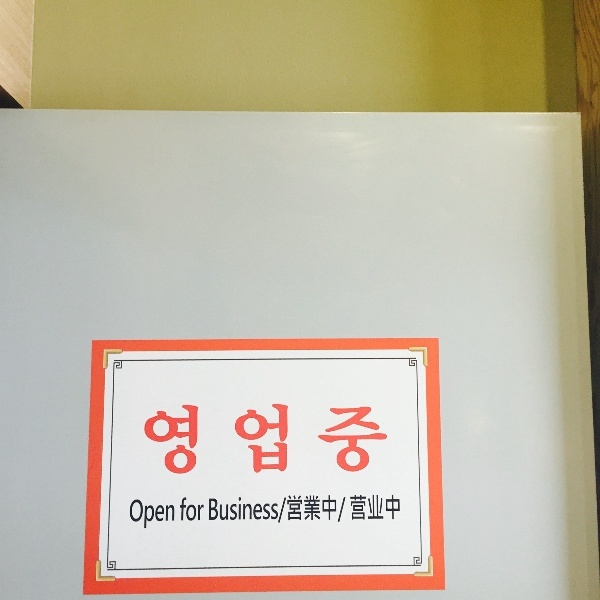text: (161, 400, 176, 475), (177, 400, 192, 475), (193, 400, 208, 475), (209, 400, 224, 475), (225, 400, 240, 475), (241, 400, 256, 475), (257, 400, 272, 475), (273, 400, 288, 475), (289, 400, 304, 475), (305, 400, 320, 475), (321, 400, 336, 475), (337, 400, 352, 475), (353, 400, 368, 475), (369, 400, 384, 475), (149, 400, 160, 475), (145, 499, 160, 537), (161, 499, 176, 537), (289, 493, 304, 526), (305, 493, 320, 526), (321, 493, 336, 526), (132, 499, 144, 537), (385, 495, 401, 523), (353, 495, 368, 523), (369, 495, 384, 523), (225, 498, 240, 524), (241, 498, 256, 524), (257, 498, 272, 524), (210, 498, 224, 524), (273, 498, 286, 524), (341, 496, 352, 526), (193, 497, 205, 523), (181, 497, 192, 523), (385, 400, 388, 475), (283, 493, 288, 529), (337, 493, 340, 526), (286, 493, 288, 526), (351, 495, 352, 523)
